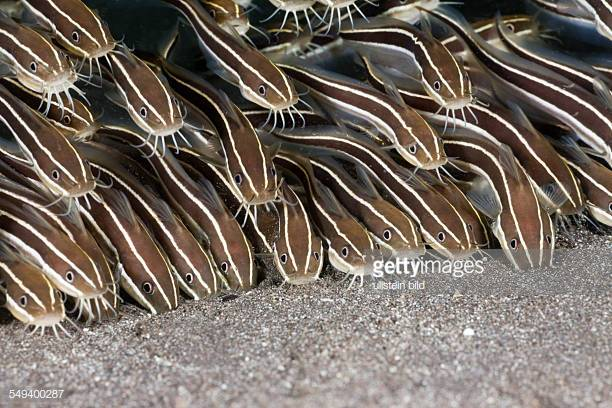gonzui: (185, 1, 316, 123), (348, 8, 485, 111)
